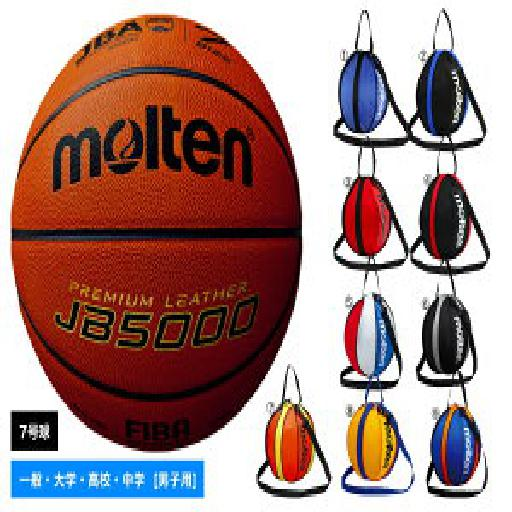ball: (11, 14, 304, 451)
